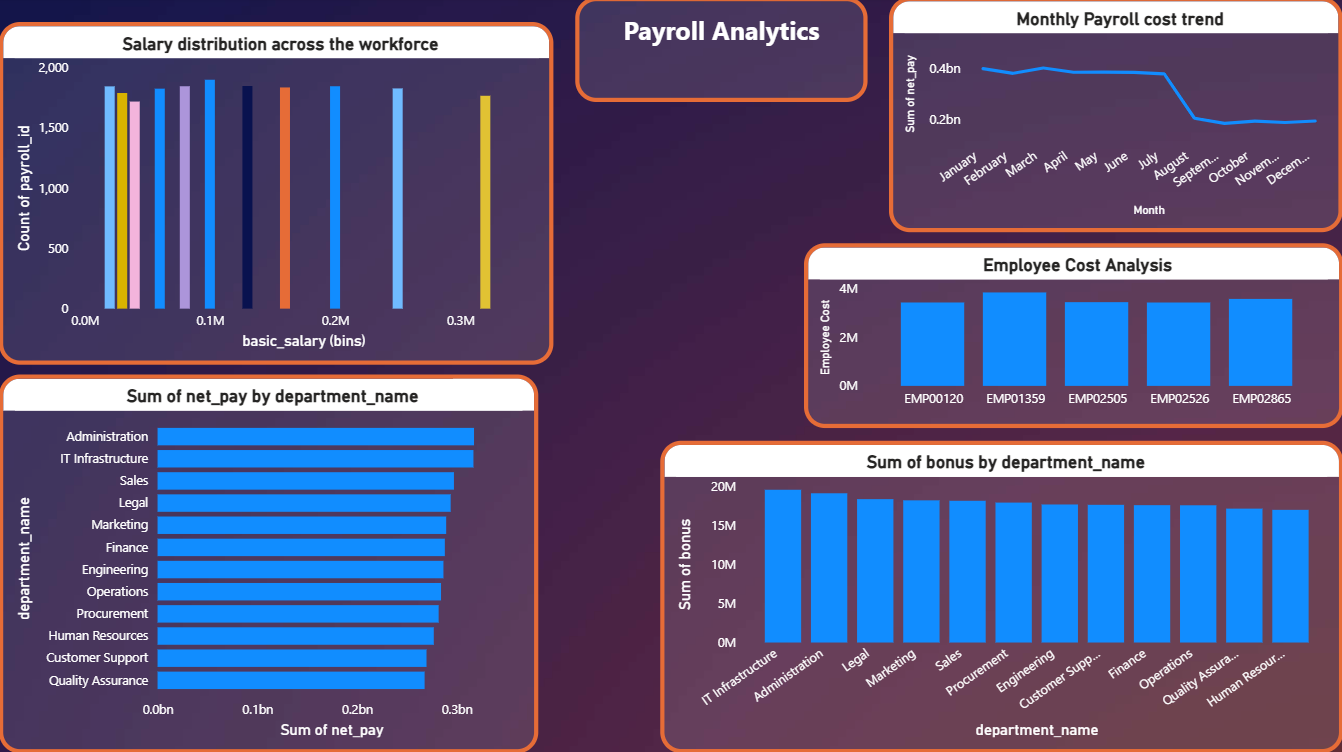

The page's visual inventory and layout, read from the dashboard file:
{"tool":"powerbi","page":{"name":"Payroll Analytics","canvas":[1280,720],"ordinal":4},"visuals":[{"type":"lineChart","title":"Monthly Payroll cost trend","fields":{"Category":["clean_payroll.pay_month.Variation.Date Hierarchy.Month"],"Y":["Sum(clean_payroll.net_pay)"]},"box":[848,0,432.2,223.7],"z":0},{"type":"clusteredColumnChart","title":"Salary distribution across the workforce","fields":{"Category":["clean_payroll.basic_salary (bins)"],"Y":["CountNonNull(clean_payroll.payroll_id)"]},"box":[0,23.3,528.3,326.6],"z":1000},{"type":"clusteredBarChart","fields":{"Category":["cleaned_departments.department_name"],"Y":["Sum(clean_payroll.net_pay)"]},"box":[0,359.5,513.2,360.9],"z":2000},{"type":"clusteredColumnChart","fields":{"Category":["cleaned_departments.department_name"],"Y":["Sum(clean_payroll.bonus)"]},"box":[629.8,422.6,650.4,297.8],"z":3000},{"type":"clusteredColumnChart","title":"Employee Cost Analysis","fields":{"Category":["clean_payroll.employee_id"],"Y":["clean_payroll.Employee Cost"]},"box":[767.1,234.6,513.2,175.6],"z":4000},{"type":"textbox","box":[548.9,0,278.6,100.2],"z":5000}]}

Visuals, with their boxes in screenshot pixels (x1, y1, x2, y2), scaled from the page's 1280x720 canvas onto the 1342x752 screenshot:
"Monthly Payroll cost trend" lineChart: (889, 0, 1341, 234)
"Salary distribution across the workforce" clusteredColumnChart: (0, 24, 554, 365)
clusteredBarChart - cleaned_departments.department_name x Sum(clean_payroll.net_pay): (0, 375, 538, 751)
clusteredColumnChart - cleaned_departments.department_name x Sum(clean_payroll.bonus): (660, 441, 1341, 751)
"Employee Cost Analysis" clusteredColumnChart: (804, 245, 1341, 428)
textbox: (575, 0, 868, 105)
